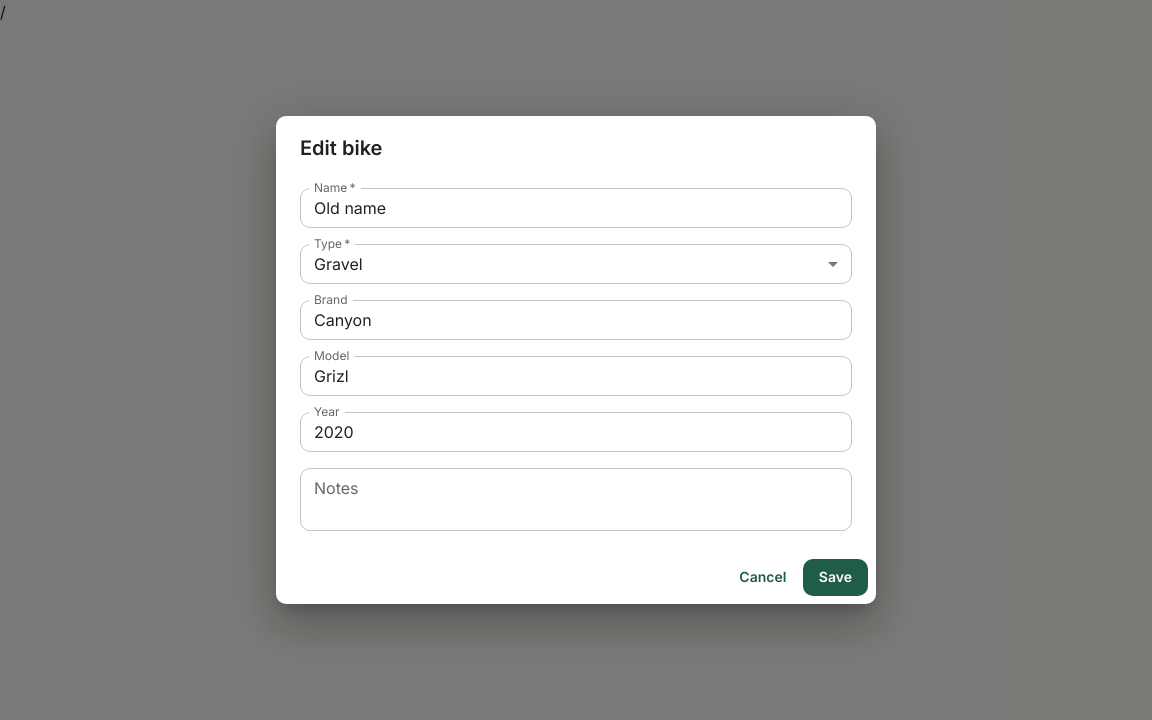
Scenario: BikeFormDialog › edits an existing bike with PUT and prefilled values
The width and height of the screenshot is (1152, 720).
expect the heading "Edit bike" is shown: met, box 300,136 -> 382,160
Replace the text in the field labelled "Name *" with "New name" at (576, 208), box 300,188 -> 852,228
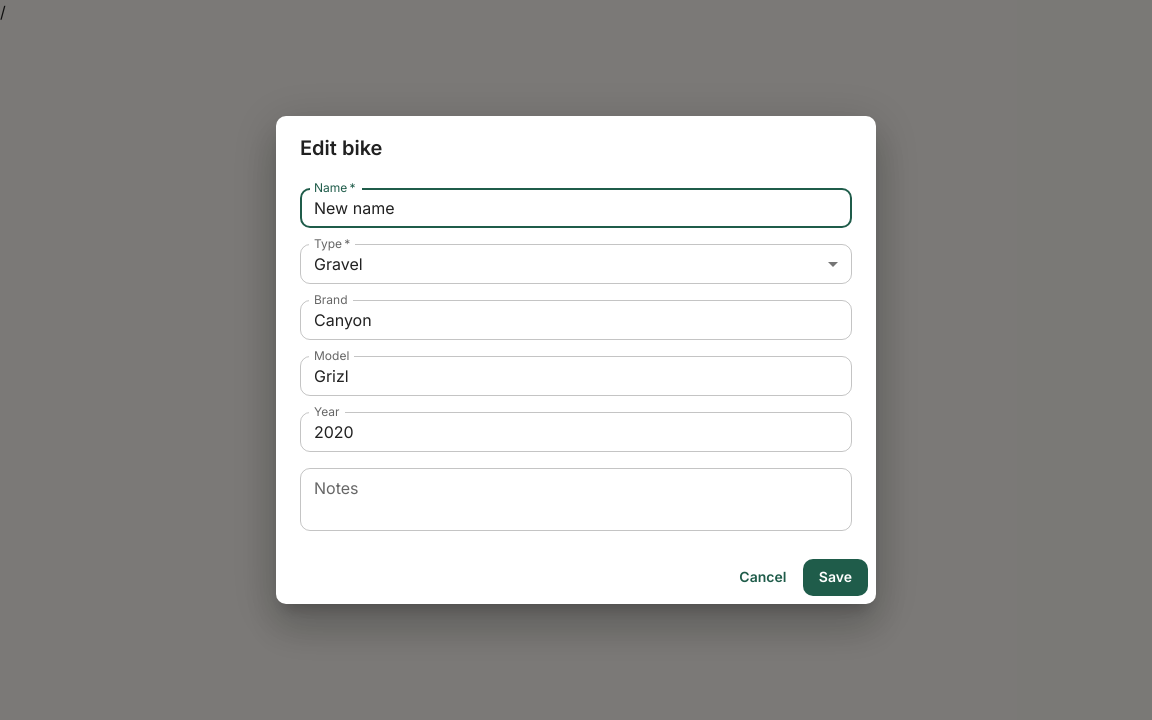
Click the button "Save" at (835, 578), box 803,559 -> 868,596
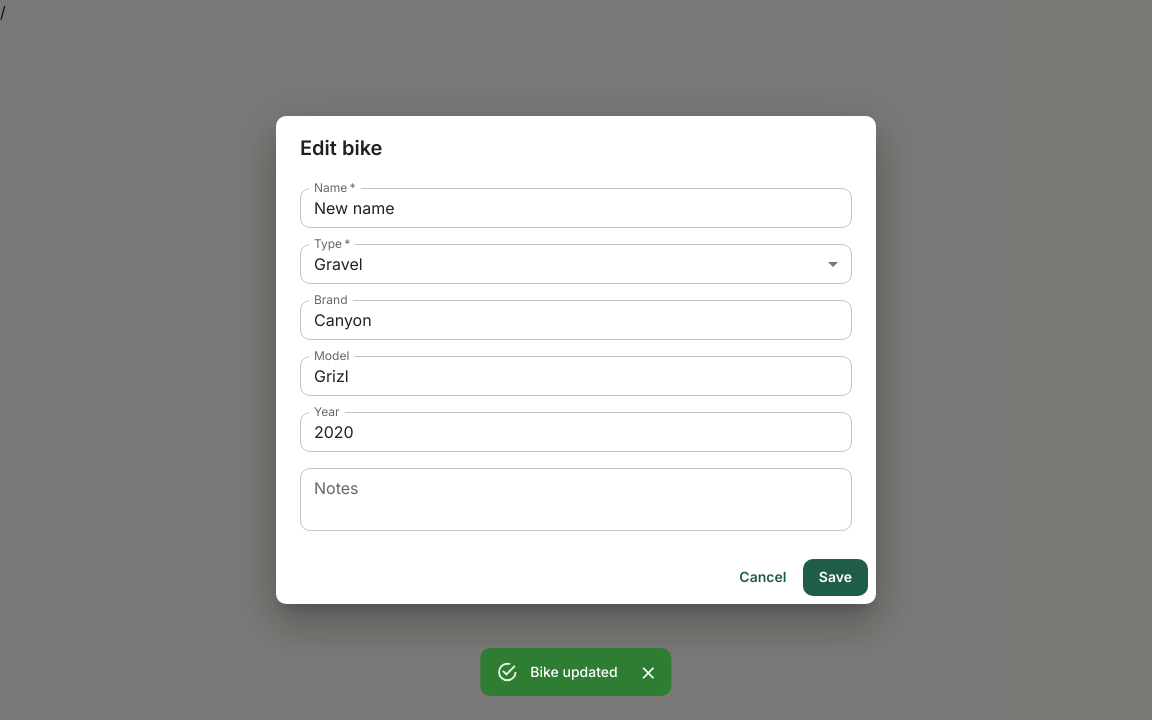
expect the text "Bike updated" is shown: met, box 530,663 -> 618,680
